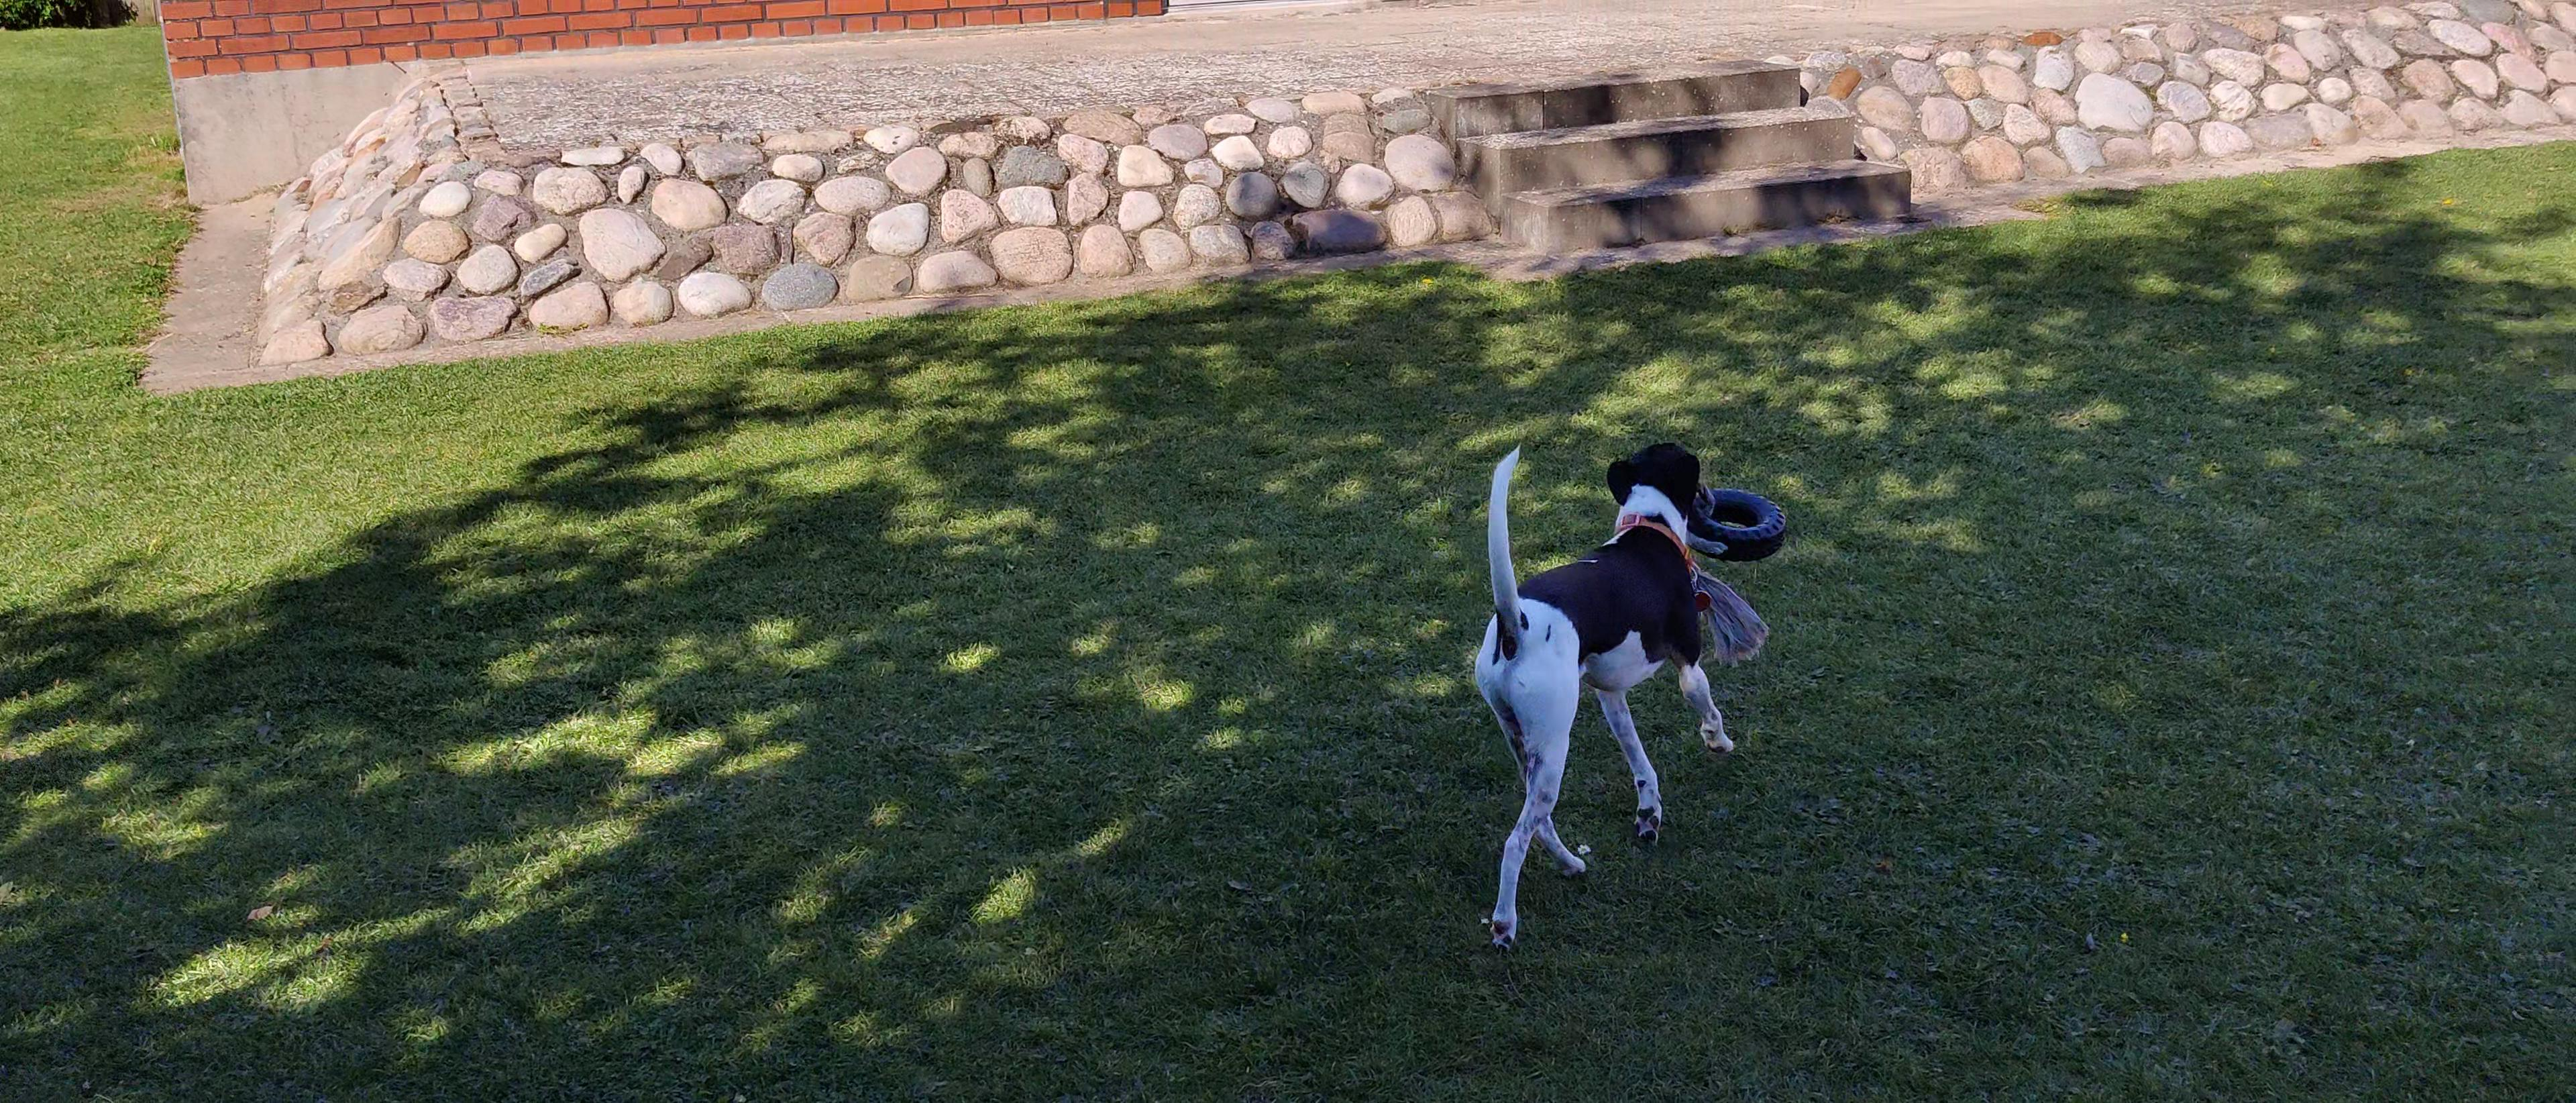Dog: (1423, 427, 1750, 955)
